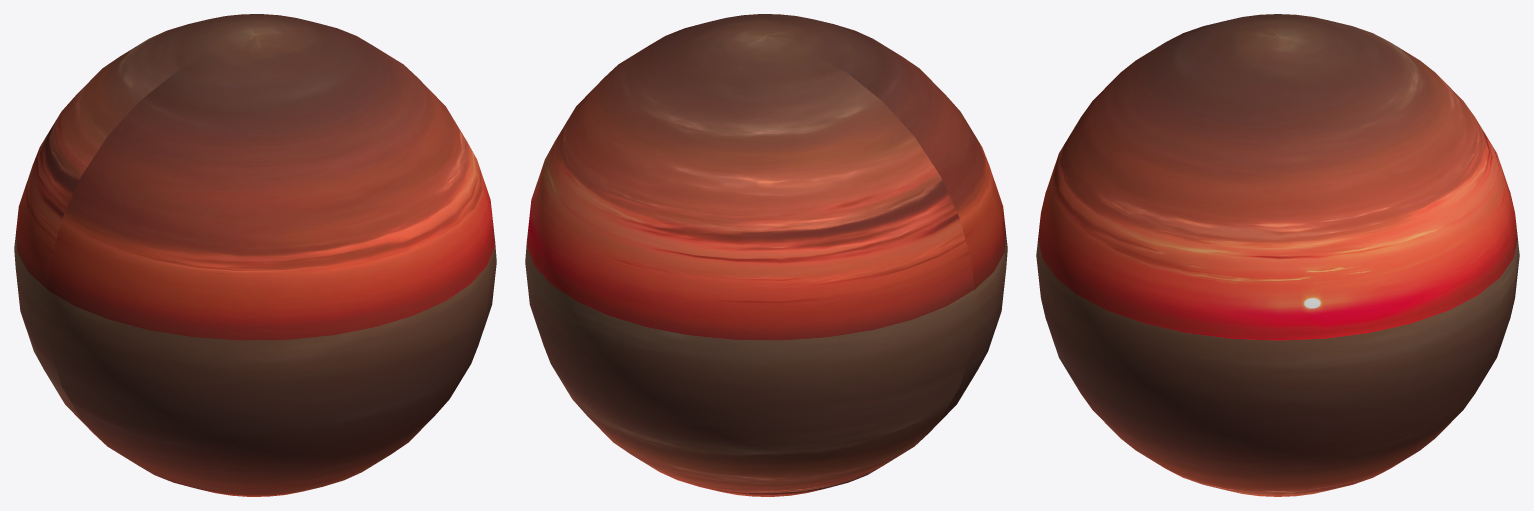
The model's file is Sky.gltf.
3 views of the same model, side by side, from view 1: azimuth 30°, elevation 25°; view 2: azimuth 150°, elevation 25°; view 3: azimuth 270°, elevation 25° (orthographic).
Parts seen in each view (by area): view 1: 球; view 2: 球; view 3: 球.
Boxes of the visible parts, x1,y1,x2,y2 form: 球: [14, 14, 496, 496]; 球: [525, 14, 1007, 496]; 球: [1036, 14, 1519, 496].
Size of the model in its own units: 2400 by 2400 by 2400.
1 material, 1 textured.
